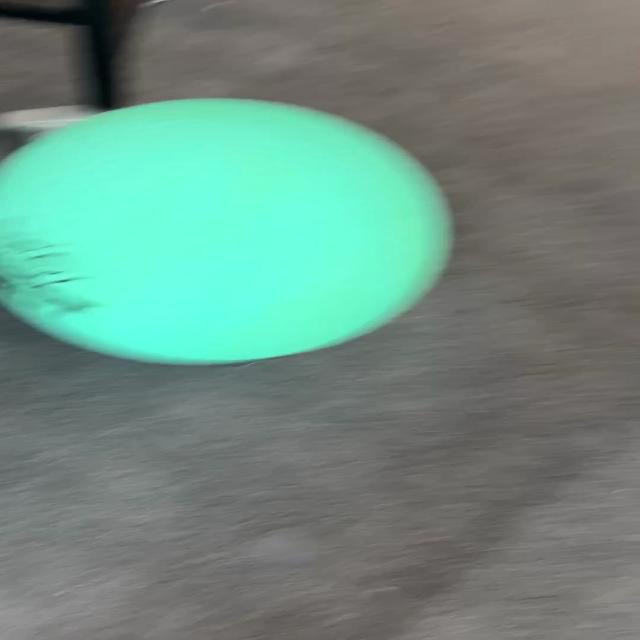Algae: (1, 96, 454, 366)
